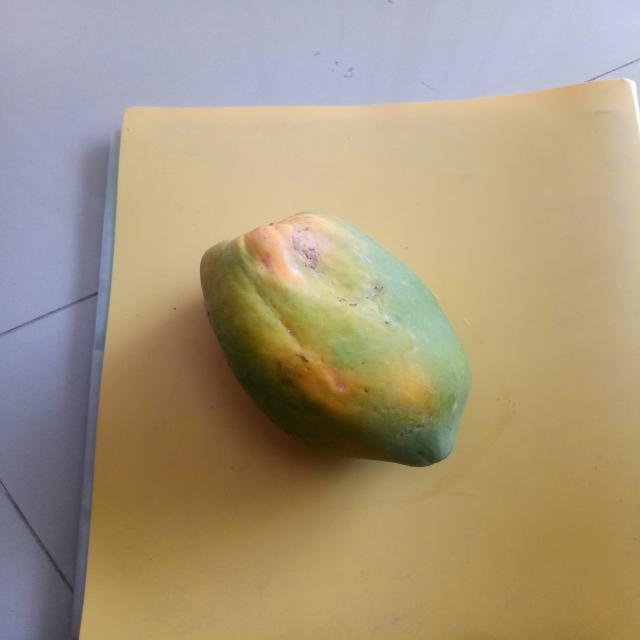Pepaya rippen: (181, 202, 481, 483)
